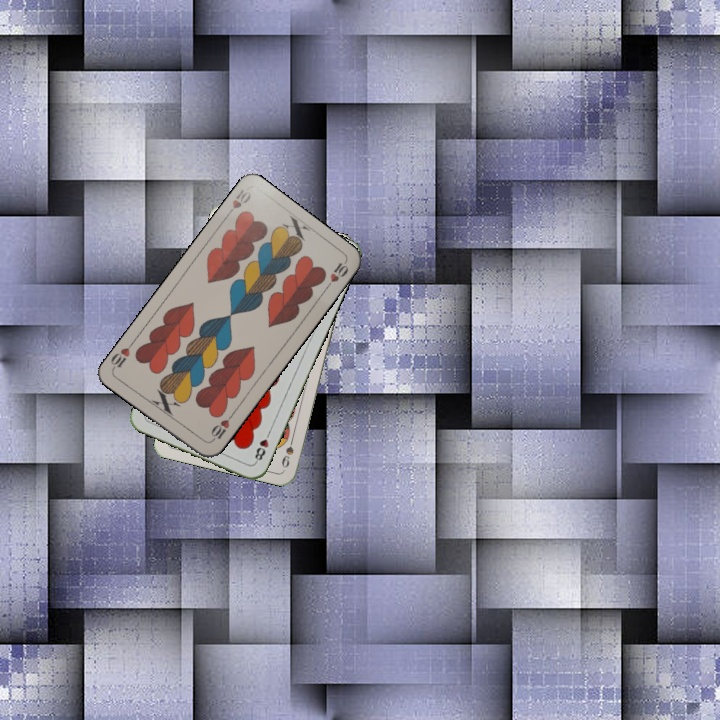H10: (222, 185, 254, 220), (206, 410, 236, 445)
H8: (250, 427, 273, 465)
S9: (277, 431, 297, 470)
